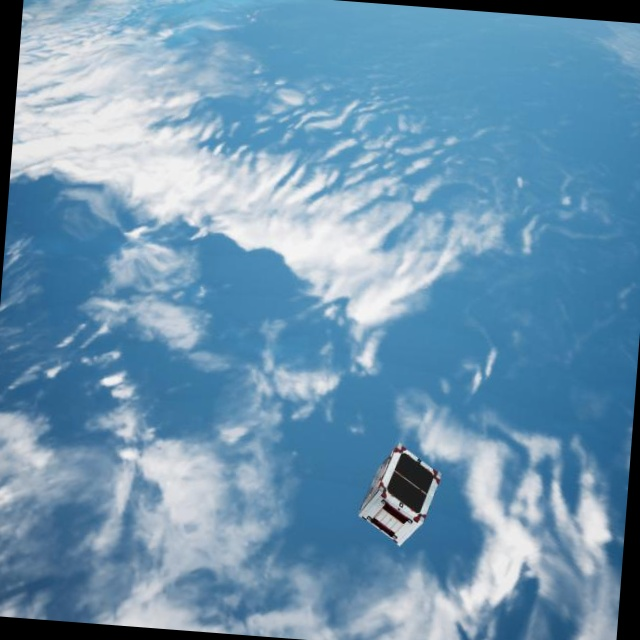medium_debris: (355, 444, 443, 549)
